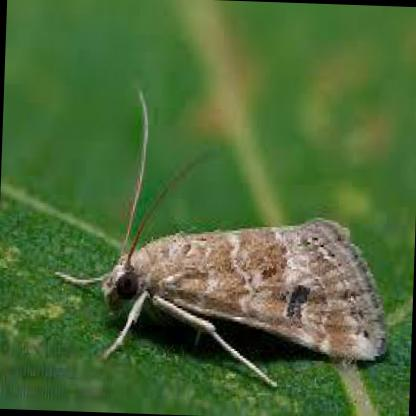Hellula undalis: (50, 73, 393, 392)
